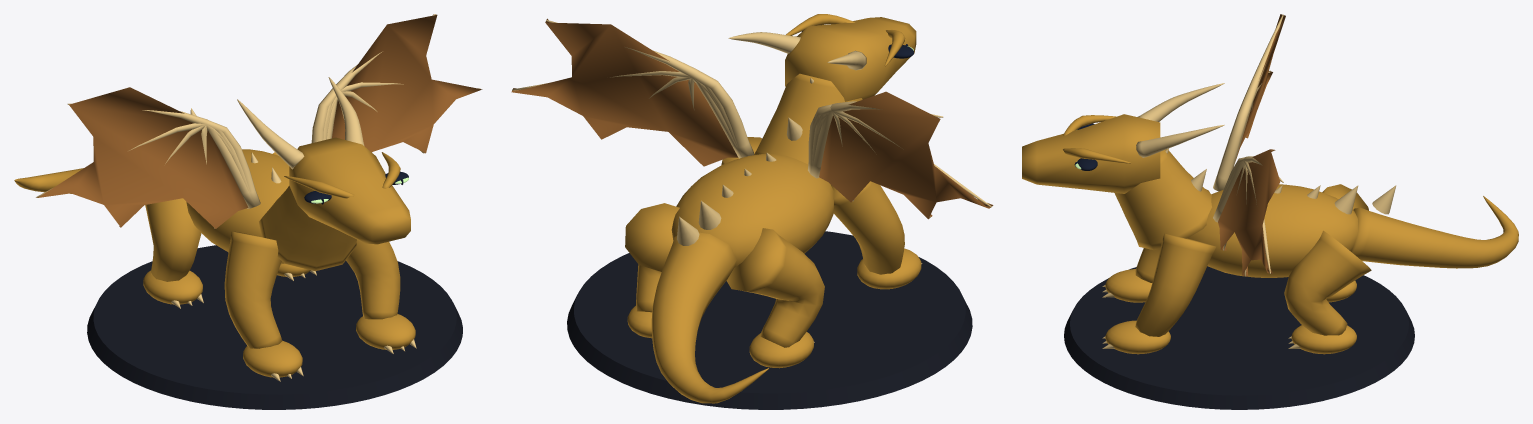
File: DragaoDourado3D.glb
3 views of the same model, side by side, from view 1: azimuth 30°, elevation 25°; view 2: azimuth 150°, elevation 25°; view 3: azimuth 270°, elevation 25° (orthographic). The views are drawn at different scales.
Parts seen in each view (by area): view 1: BaseMiniatura, MembranaEspessa, MembranaEspessa2, CabecaEsculpida, MembroDianteiraEsquerda, Pescoco, MembroTraseiraEsquerda, TroncoHorizontal, MembroDianteiraDireita, PataDianteiraDireita, PataDianteiraEsquerda, PataTraseiraEsquerda (+9 smaller); view 2: BaseMiniatura, MembranaEspessa2, TroncoHorizontal, MembranaEspessa, CaudaVolumetrica, CabecaEsculpida, MembroTraseiraEsquerda, MembroDianteiraEsquerda, Pescoco, MembroTraseiraDireita, Nervura22, PataTraseiraEsquerda (+12 smaller); view 3: BaseMiniatura, CabecaEsculpida, TroncoHorizontal, CaudaVolumetrica, Pescoco, MembroTraseiraDireita, MembroDianteiraDireita, MembranaEspessa2, PataDianteiraDireita, PataTraseiraDireita, Nervura2, PataDianteiraEsquerda (+6 smaller).
Part boxes in pixels (x1,y1,x2,y2): BaseMiniatura: [87, 245, 462, 409]; MembranaEspessa: [37, 87, 248, 228]; MembranaEspessa2: [332, 14, 482, 153]; CabecaEsculpida: [289, 137, 410, 244]; MembroDianteiraEsquerda: [224, 231, 282, 348]; Pescoco: [259, 186, 356, 271]; MembroTraseiraEsquerda: [145, 198, 201, 281]; TroncoHorizontal: [186, 149, 289, 264]; MembroDianteiraDireita: [346, 239, 400, 319]; PataDianteiraDireita: [356, 314, 415, 349]; PataDianteiraEsquerda: [243, 340, 302, 377]; PataTraseiraEsquerda: [143, 270, 202, 304]; BaseMiniatura: [567, 231, 972, 409]; MembranaEspessa2: [511, 18, 738, 166]; TroncoHorizontal: [671, 153, 834, 267]; MembranaEspessa: [819, 91, 993, 219]; CaudaVolumetrica: [651, 232, 768, 403]; CabecaEsculpida: [785, 17, 916, 101]; MembroTraseiraEsquerda: [726, 228, 824, 347]; MembroDianteiraEsquerda: [831, 181, 904, 274]; Pescoco: [754, 73, 862, 164]; MembroTraseiraDireita: [625, 203, 679, 312]; Nervura22: [512, 70, 753, 157]; PataTraseiraEsquerda: [749, 332, 813, 368]; BaseMiniatura: [1064, 266, 1414, 409]; CabecaEsculpida: [1022, 114, 1160, 193]; TroncoHorizontal: [1188, 184, 1357, 277]; CaudaVolumetrica: [1351, 196, 1518, 268]; Pescoco: [1114, 149, 1211, 250]; MembroTraseiraDireita: [1284, 230, 1371, 335]; MembroDianteiraDireita: [1135, 233, 1216, 336]; MembranaEspessa2: [1218, 149, 1280, 276]; PataDianteiraDireita: [1105, 320, 1170, 354]; PataTraseiraDireita: [1291, 325, 1356, 354]; Nervura2: [1213, 70, 1270, 191]; PataDianteiraEsquerda: [1105, 269, 1152, 302].
Bounding box in the file's own units: 0.9757 × 0.55 × 1.01.
